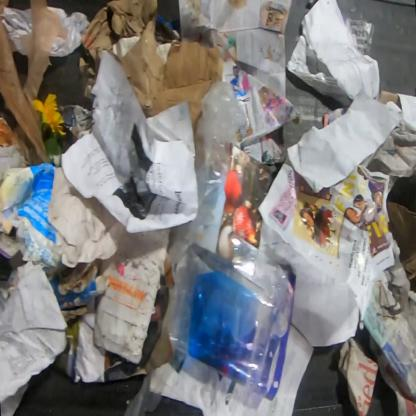cardboard: (78, 0, 224, 135), (93, 226, 173, 362), (0, 162, 68, 266), (385, 167, 415, 297), (0, 118, 29, 190), (0, 229, 27, 259)
soft_plastic: (168, 232, 296, 402), (171, 82, 250, 290), (0, 0, 68, 163)
